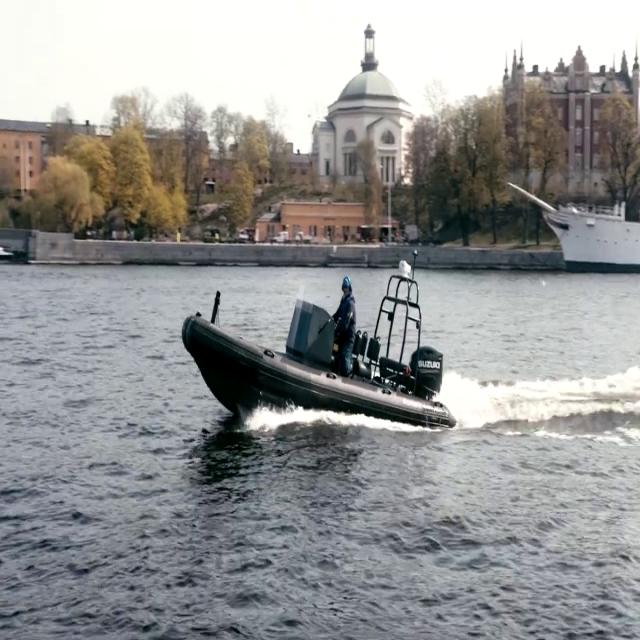earmuff: (349, 282, 354, 292), (341, 282, 345, 293)
helmet: (342, 274, 352, 289)
